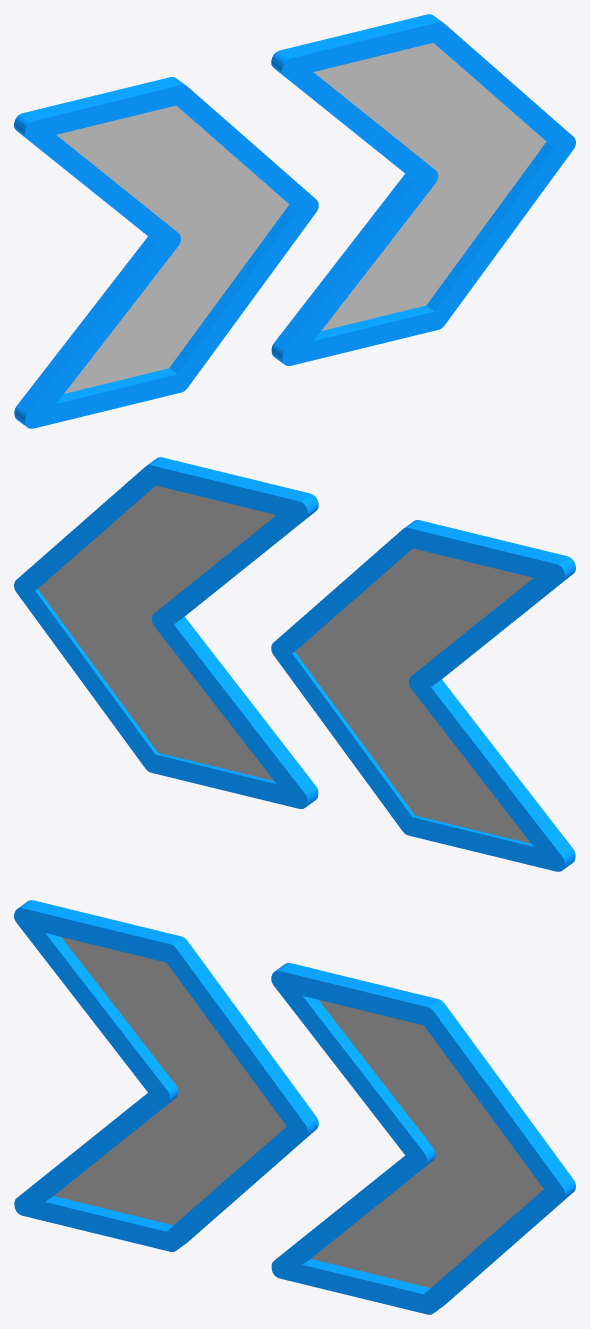
File: arrow.fbx
3 renders of one model, top to bottom at view 1: azimuth 30°, elevation 25°; view 2: azimuth 150°, elevation 25°; view 3: azimuth 330°, elevation 25°, orthographic.
Visible parts, largest first — view 1: Curve, Plane.002, Plane.001; view 2: Curve, Plane.002, Plane.001; view 3: Curve, Plane.001, Plane.002.
Boxes of the visible parts, x1,y1,x2,y2 form: Curve: (14, 14, 575, 428); Plane.002: (56, 105, 288, 393); Plane.001: (313, 43, 546, 330); Curve: (14, 457, 575, 871); Plane.002: (295, 548, 533, 843); Plane.001: (38, 485, 276, 780); Curve: (14, 900, 575, 1314); Plane.001: (311, 1000, 543, 1287); Plane.002: (54, 937, 286, 1225).
Size of the model in its own units: 150 by 79.78 by 5.11.
